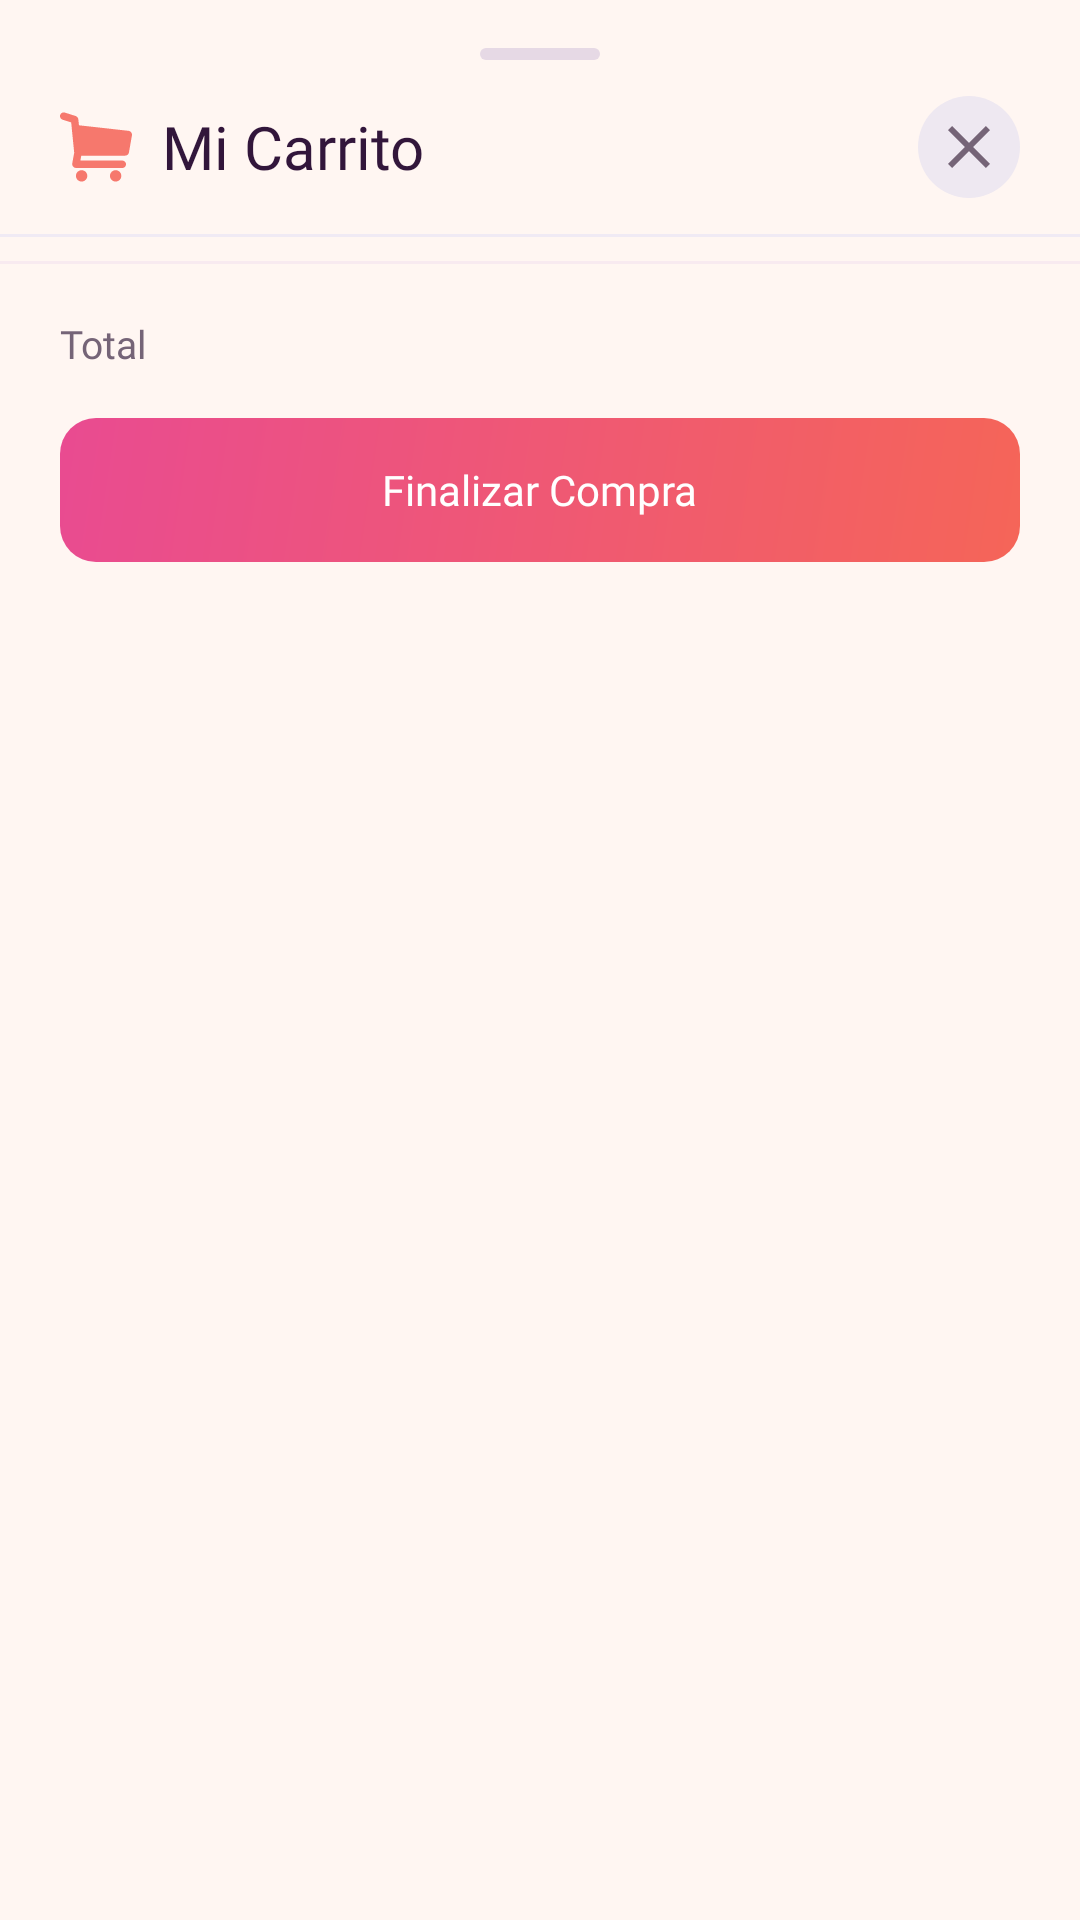

Icons on this 1080*1920 Android screen, each with its box as (x1, y1, x2, y2):
Cerrar: (918, 96, 1020, 198)
